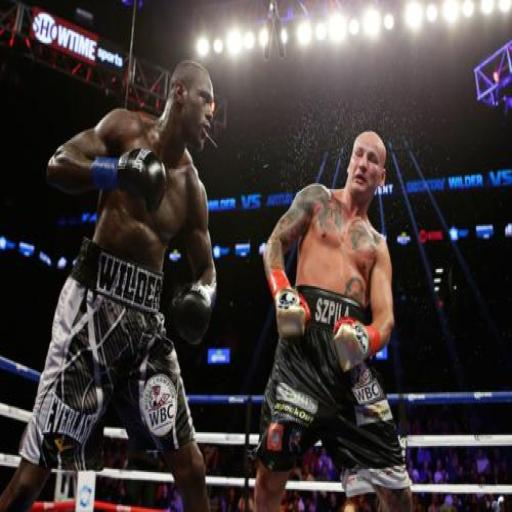boxing: (0, 57, 219, 510), (250, 129, 415, 511)
